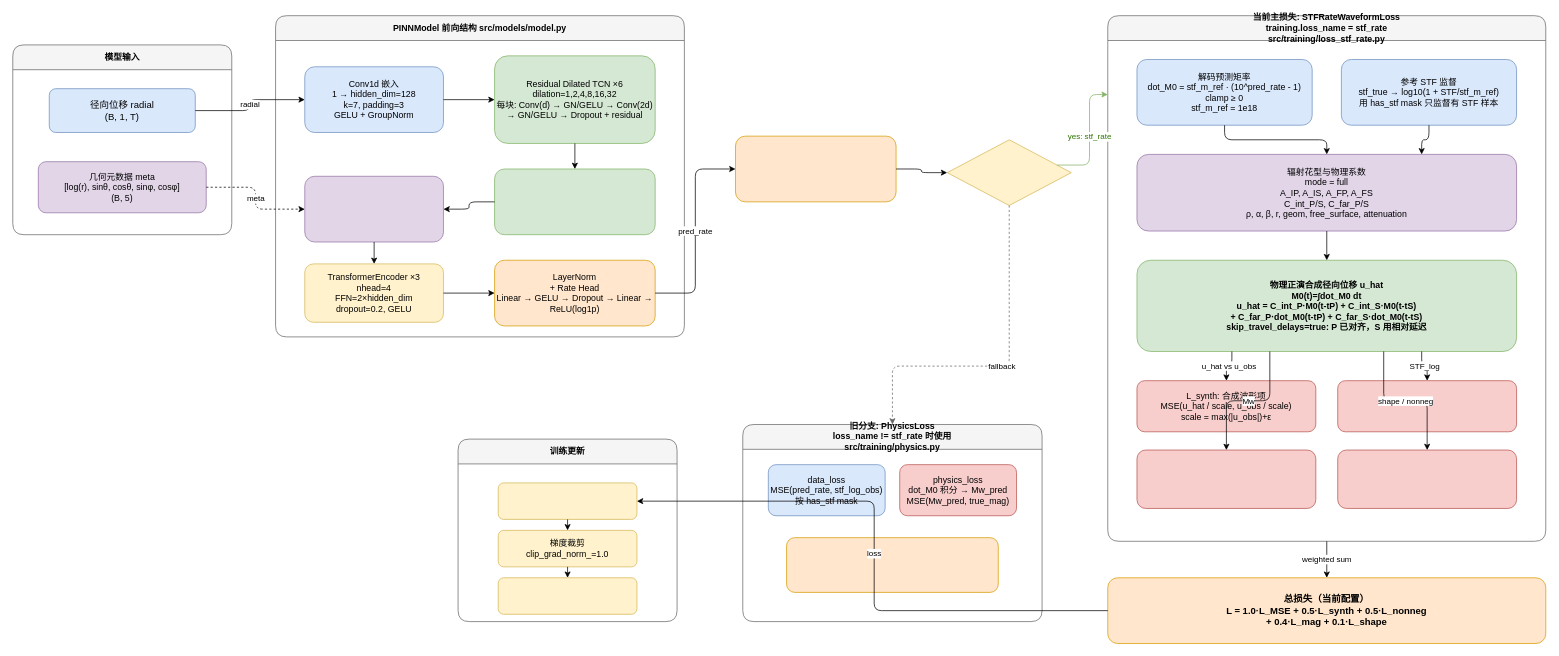
Image size: 1559x656. Some labels were removed from this diagram. Each missing label, with the box of its shape:
AdamW + CosineWarmRestarts SWA 可选: (497, 577, 637, 614)
L_mag: 震级一致性 Mw_pred = 2/3(log10(max∫dot_M0dt)-9.1) MSE(Mw_pred, Mw_true): (1136, 449, 1316, 508)
L_MSE: STF 数据项 MSE(pred_rate, STF_log) 仅 has_stf=true 样本: (1337, 380, 1517, 432)
L_nonneg + L_shape L_nonneg = mean(clamp(-dot_M0)^2) L_shape = MSE(归一化 STF 形状): (1337, 449, 1517, 508)
Squeeze-Excitation mean over time → FC → ReLU → FC → Sigmoid 通道重标定: (494, 168, 655, 235)
stf_loss 归一化 STF shape MSE 总损失 = data + w_phys·physics + w_stf·stf: (786, 537, 998, 592)
反向传播 loss.backward(): (497, 482, 637, 519)
损失选择 train.py: (946, 139, 1071, 205)
网络输出 pred_rate (B, T), log1p 编码 表示矩率序列 dot_M0(t): (735, 135, 896, 202)
转为序列 (B,T,C) + Sinusoidal PE + meta_embed(meta): (304, 176, 443, 242)
